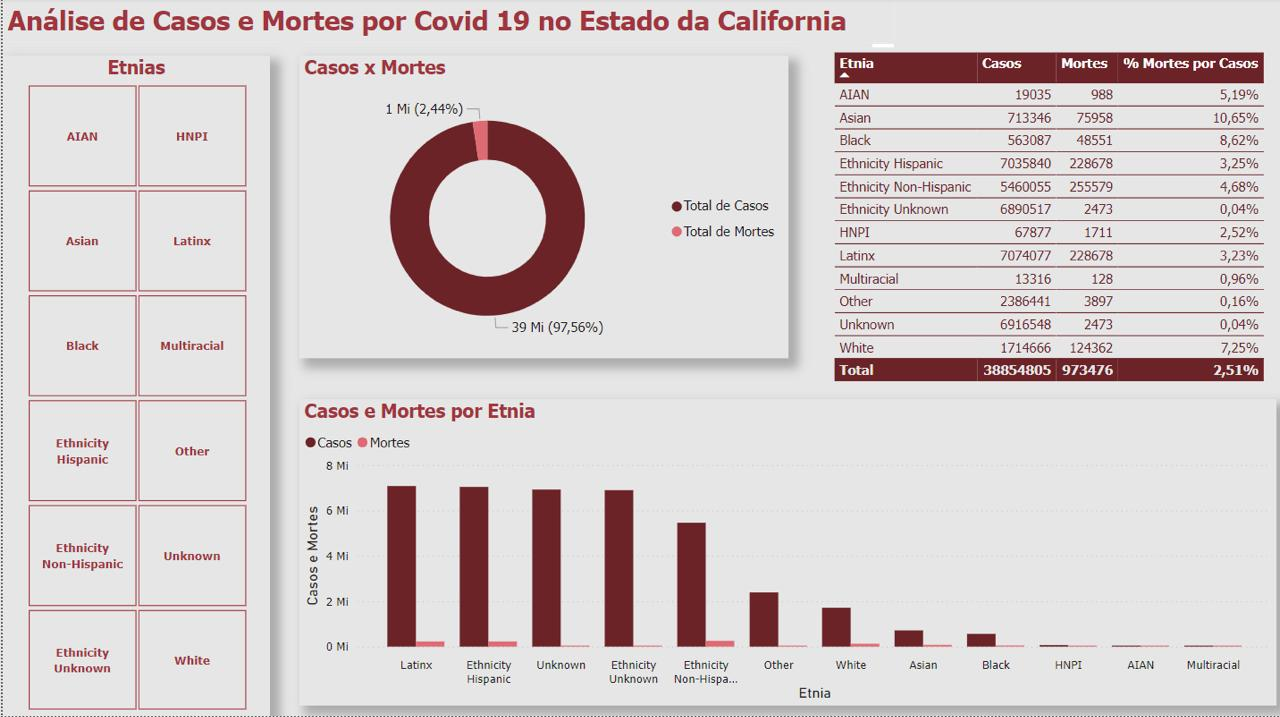

This screenshot's page, from the dashboard's own definition file:
{"tool":"powerbi","page":{"name":"Análise California","canvas":[1280,720],"ordinal":1},"visuals":[{"type":"donutChart","title":"Casos x Mortes","fields":{"Y":["Sum(total_california.total_cases)","Sum(total_california.total_deaths)"]},"box":[297.4,57.4,489.7,302.7],"z":0},{"type":"clusteredColumnChart","fields":{"Category":["total_california.ethnicity"],"Y":["Sum(total_california.total_cases)","Sum(total_california.total_deaths)"]},"box":[297.3,401.2,978.8,308.1],"z":1000},{"type":"slicer","title":"Etnias","fields":{"Values":["total_california.ethnicity"]},"box":[0,57.4,267.7,662.8],"z":2000},{"type":"textbox","box":[0,0,893.3,44.6],"z":3000},{"type":"tableEx","fields":{"Values":["total_california.ethnicity","Sum(total_california.total_cases)","Sum(total_california.total_deaths)","Medidas.%_Mortes_casos"]},"box":[827.5,49.3,448.7,339.4],"z":4000}]}

Visuals, with their boxes in screenshot pixels (x1, y1, x2, y2), scaled from the page's 1280x720 canvas onto the 1280x717 screenshot:
"Casos x Mortes" donutChart: crop(297, 57, 787, 359)
clusteredColumnChart - total_california.ethnicity x Sum(total_california.total_cases): crop(297, 400, 1276, 706)
"Etnias" slicer: crop(0, 57, 268, 716)
textbox: crop(0, 0, 893, 44)
tableEx - total_california.ethnicity x Sum(total_california.total_cases): crop(828, 49, 1276, 387)
